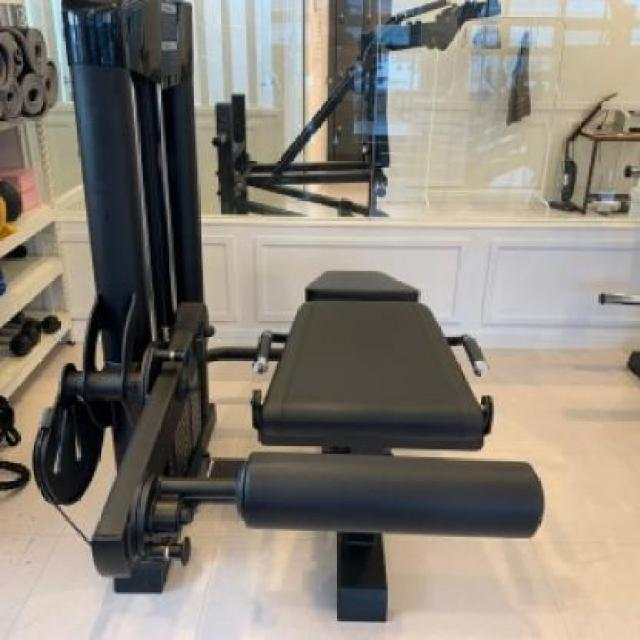reg curl machine: (32, 0, 548, 623)
